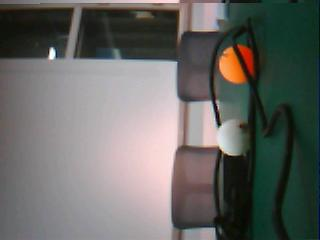oball: (219, 46, 253, 83)
